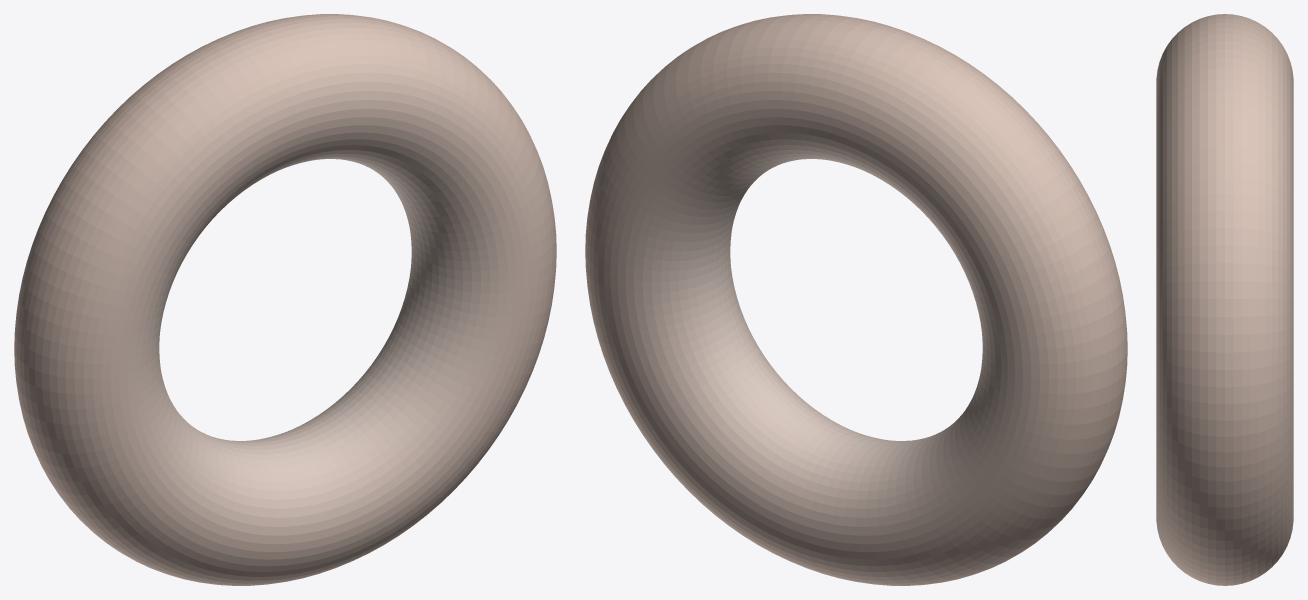
The picture shows the model from 3 angles, left to right: view 1: azimuth 30°, elevation 25°; view 2: azimuth 150°, elevation 25°; view 3: azimuth 270°, elevation 25°; orthographic projection. The views are drawn at different scales.
Visible parts, largest first — view 1: world; view 2: world; view 3: world.
Boxes of the visible parts, x1,y1,x2,y2 form: world: (14,14,556,585); world: (585,14,1127,585); world: (1156,14,1293,585).
Size of the model in its own units: 27.2 by 27.2 by 6.52.
